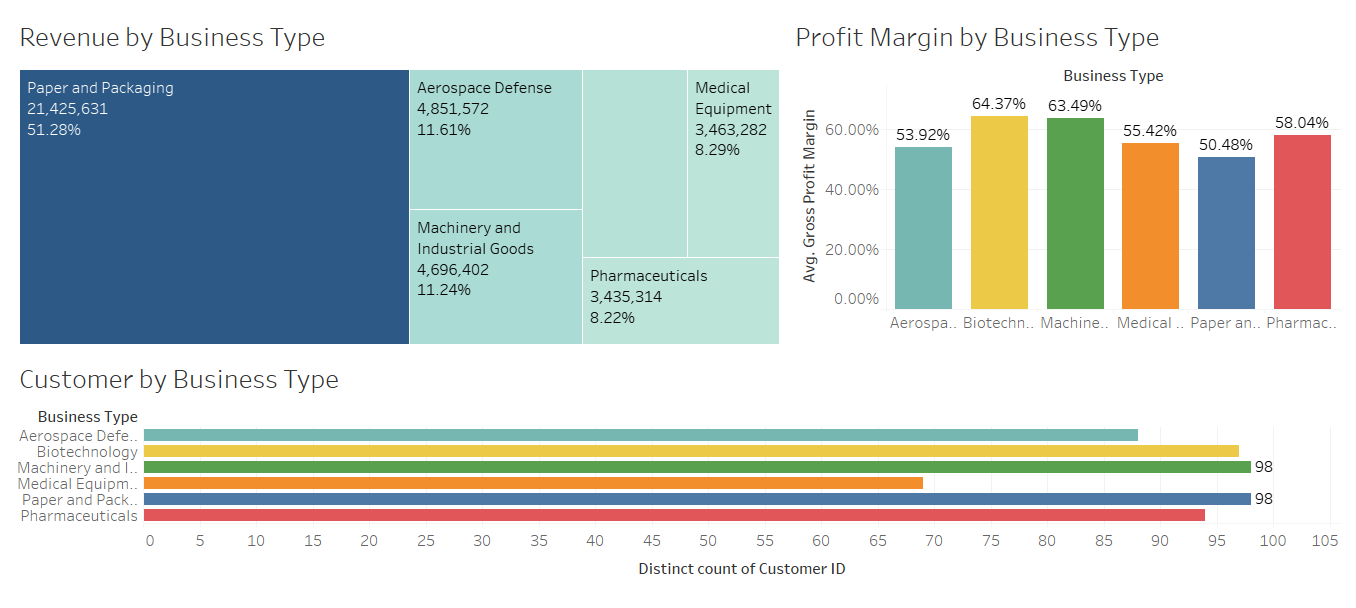

The page's visual inventory and layout, read from the dashboard file:
{"tool":"tableau","page":{"name":"Industry Analysis","canvas":[1000,1000],"units":"permille","ordinal":1},"visuals":[{"type":"worksheet","title":"Revenue by Business Type","mark":"Automatic","box":[6.3,14.1,610.1,560.8]},{"type":"worksheet","title":"Profit Margin by Business Type","mark":"Automatic","rows":["Calculation_2090655439942512697"],"cols":["Business Type"],"box":[616.4,14.1,377.3,560.8]},{"type":"worksheet","title":"Customer by Business Type","mark":"Automatic","rows":["Business Type"],"cols":["Customer ID"],"box":[6.3,574.9,987.4,410.9]}]}

Visuals, with their boxes on the dashboard's canvas, which has no fixed pixel size, in thousandths of its width and height (x1, y1, x2, y2). These are canvas units, not pixel positions in the 1356x608 screenshot, which may show the page scaled, cropped or inside an application window:
"Revenue by Business Type" worksheet: select_region(6, 14, 616, 575)
"Profit Margin by Business Type" worksheet: select_region(616, 14, 994, 575)
"Customer by Business Type" worksheet: select_region(6, 575, 994, 986)
